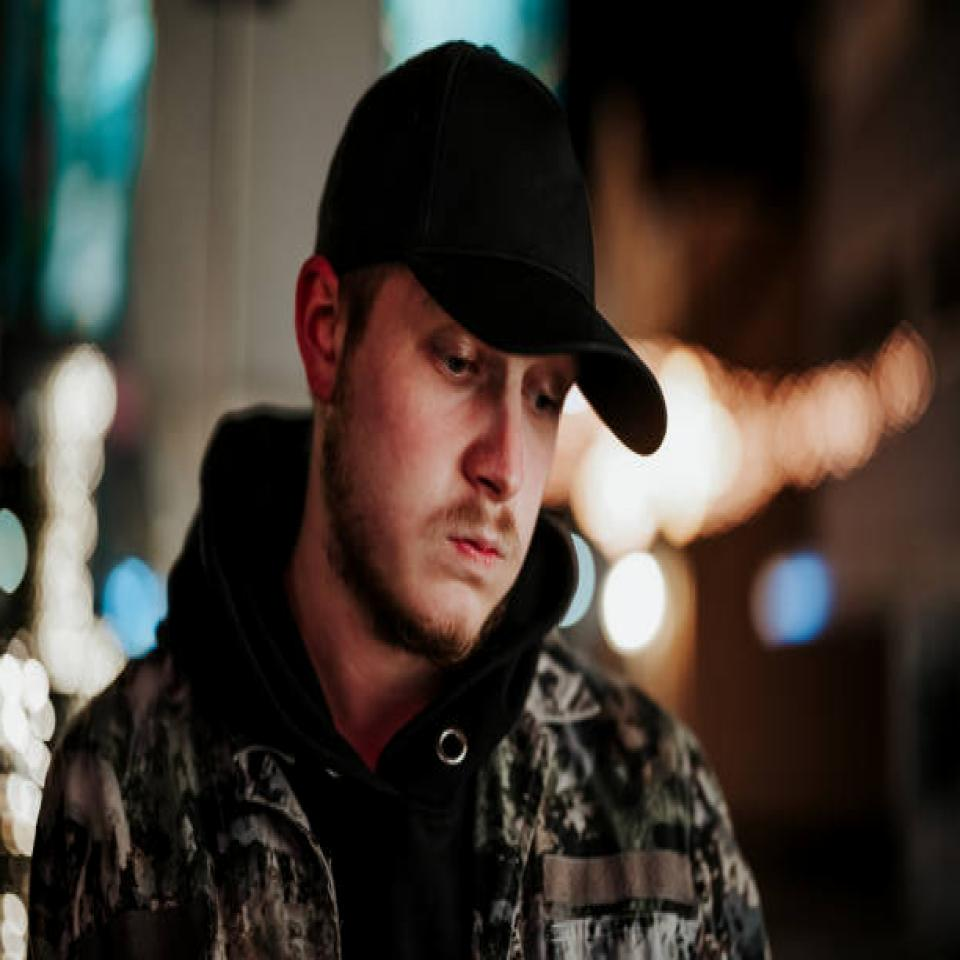Sadness: (320, 292, 588, 656)
